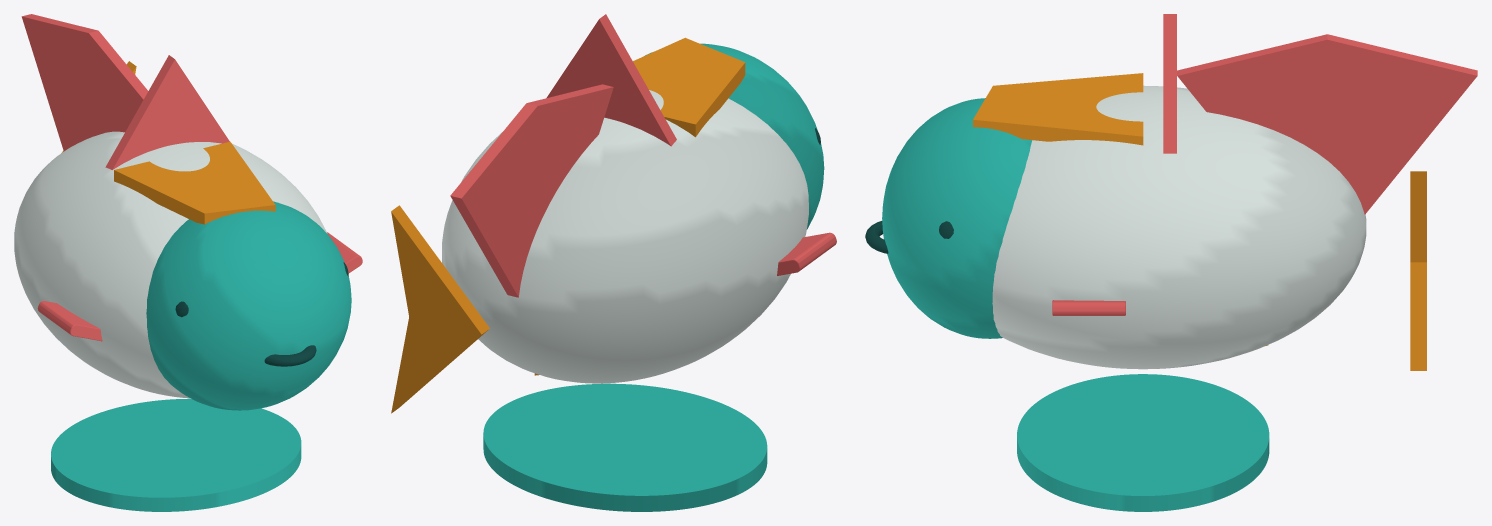
File: 0480_鱼类图鉴_黄鹂无齿鲹.glb
3 renders of one model, left to right at view 1: azimuth 30°, elevation 25°; view 2: azimuth 150°, elevation 25°; view 3: azimuth 270°, elevation 25°, orthographic. The views are drawn at different scales.
Parts seen in each view (by area): view 1: card_0480; view 2: card_0480; view 3: card_0480.
Part boxes in pixels (x1,y1,x2,y2): card_0480: [14, 14, 362, 511]; card_0480: [391, 14, 836, 511]; card_0480: [865, 14, 1477, 511].
Size of the model in its own units: 0.776 by 1 by 1.26.
